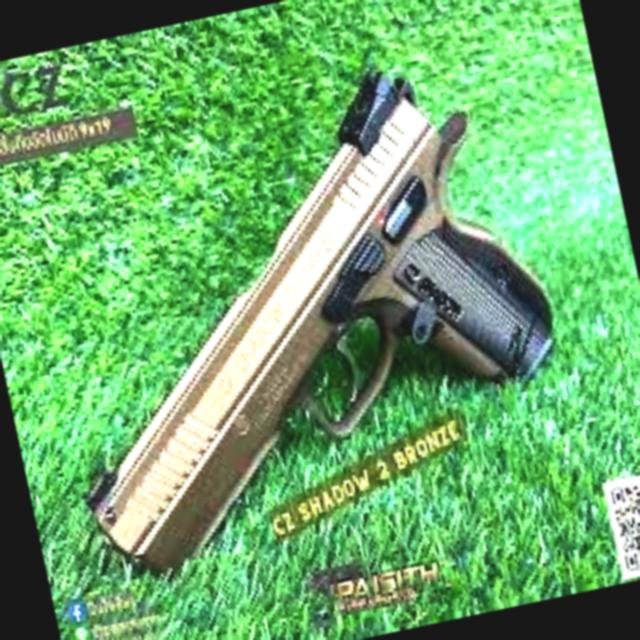semi automatic: (0, 16, 603, 601)
